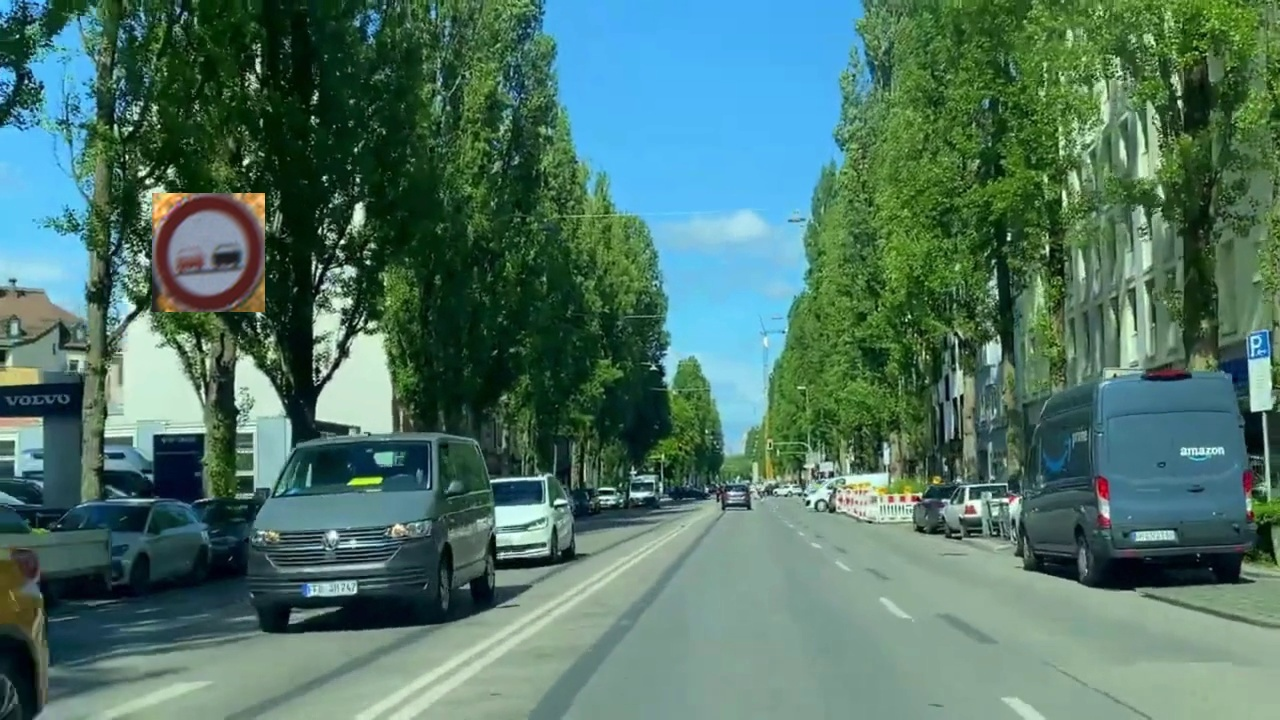No passing: (152, 193, 265, 312)
